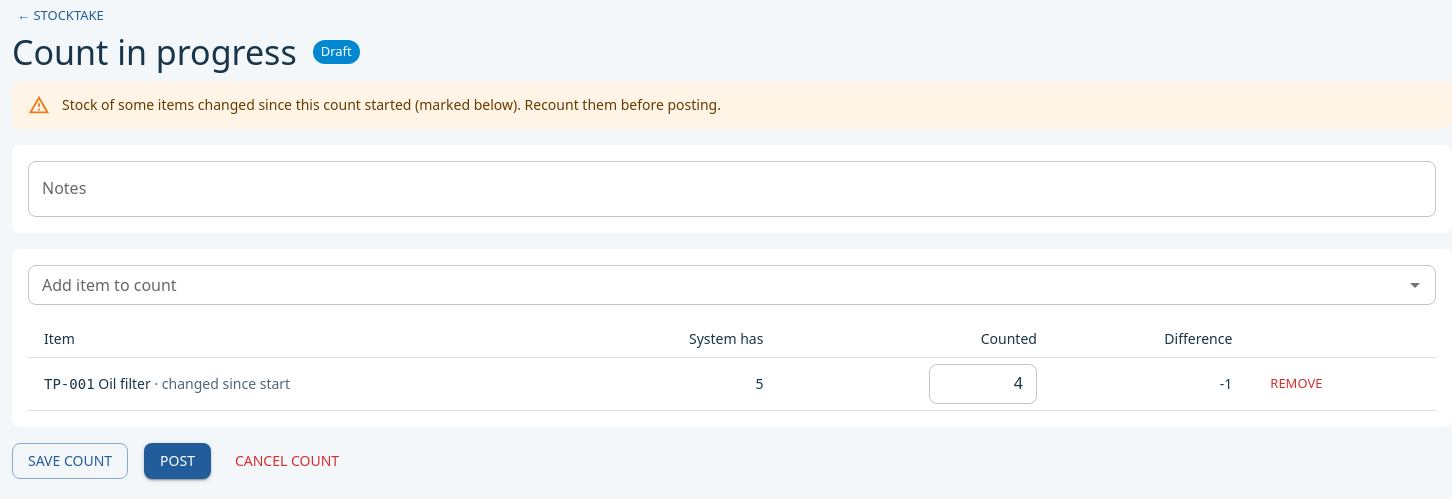
shows stocktake differences as you type and warns about stock that moved
Expected: the text "changed since this count started" is shown, [62,95,721,114]
Expected: the text "-1" is shown, [1053,357,1248,410]
Replace the text in the field named "Counted TP-001" with "7.5": (983, 384) [929,364,1037,404]
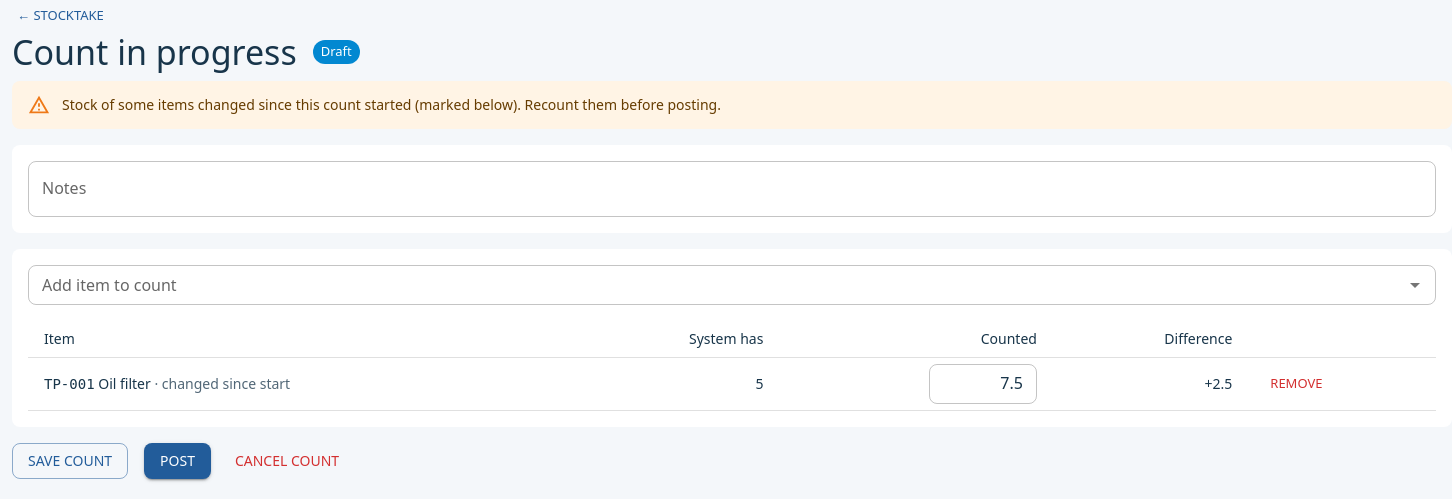
Result: the text "+2.5" is shown at [1053,357,1248,410]
